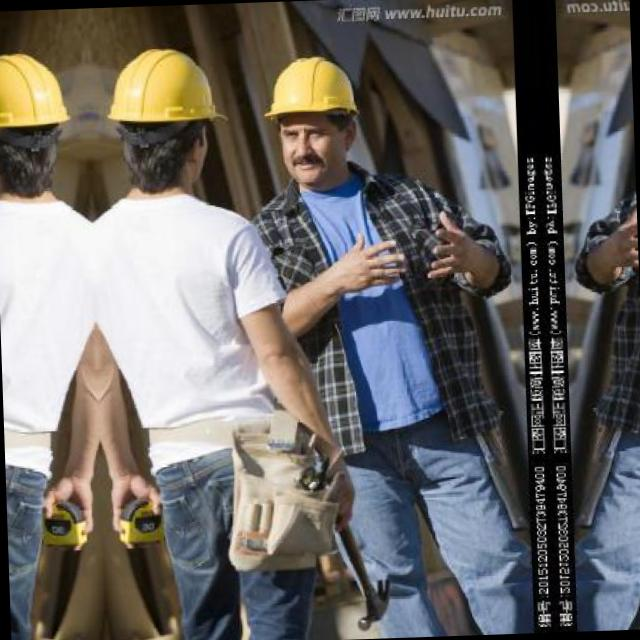helmet: (89, 29, 240, 200), (248, 36, 372, 192), (0, 34, 88, 205)
